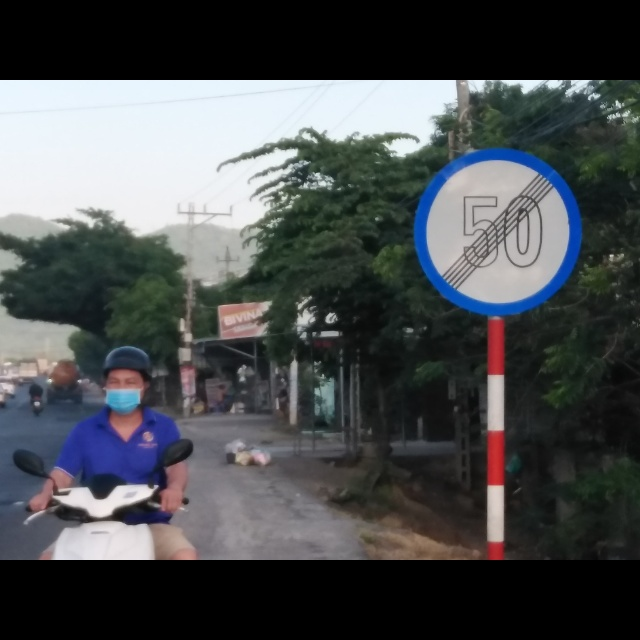Hết hạn chế tốc độ tối đa 50km/h: (410, 143, 582, 318)
